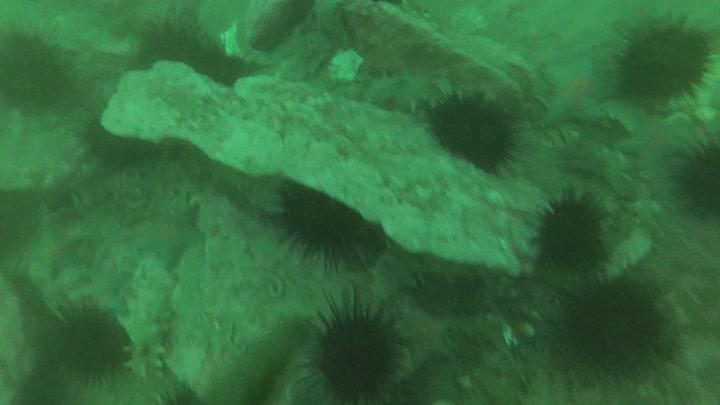urchin: (295, 286, 415, 405), (549, 276, 675, 381), (603, 10, 715, 113), (424, 84, 519, 178), (270, 176, 367, 267), (532, 181, 613, 273), (2, 26, 81, 115), (41, 299, 119, 382)
